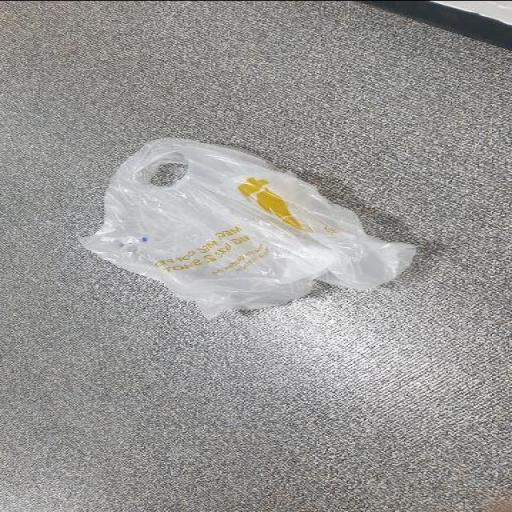plastic-bag: (78, 134, 416, 316)
